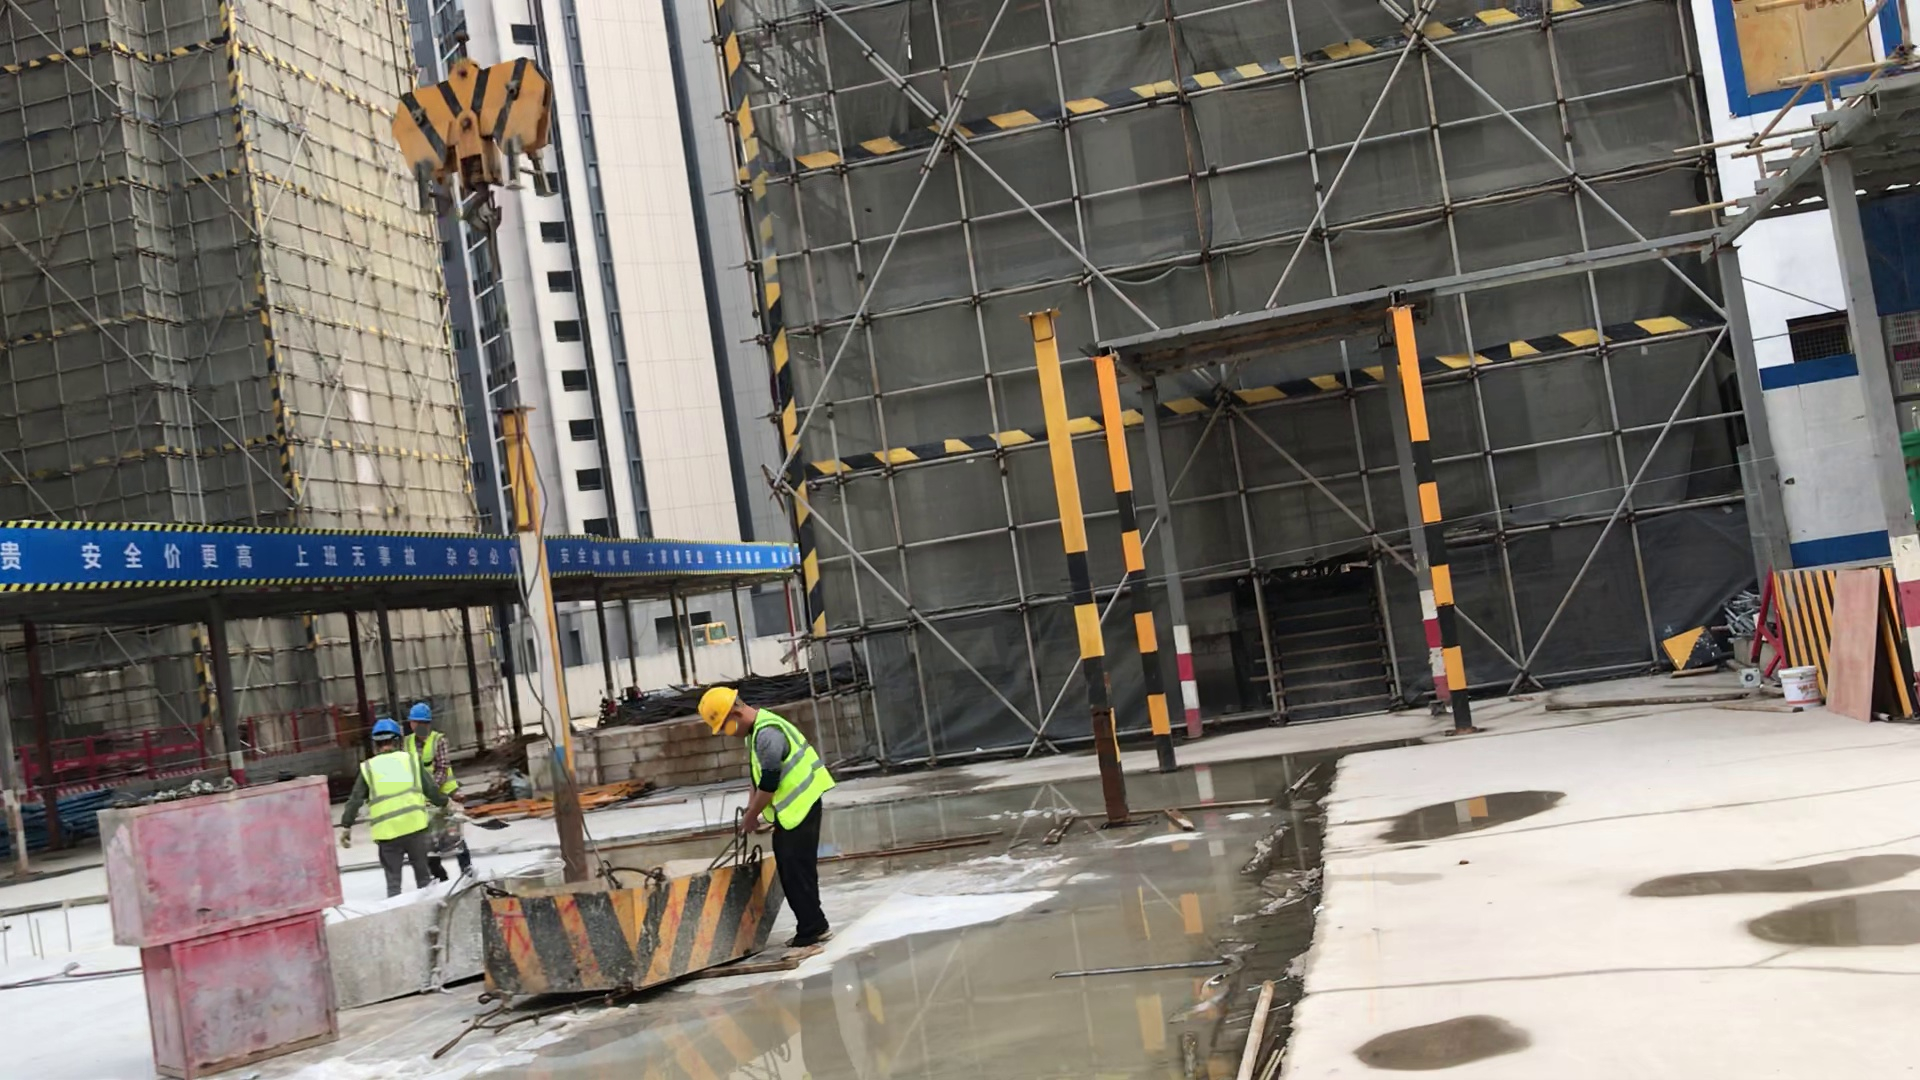fence: (7, 709, 304, 783)
helmet: (692, 687, 747, 728), (360, 706, 407, 737), (404, 695, 432, 716)
hook: (381, 31, 554, 217)
hopper: (471, 846, 806, 1000), (315, 869, 491, 1008)
person: (682, 672, 840, 947), (336, 717, 438, 916), (396, 690, 478, 898)
slogan: (1, 525, 807, 568)
vest: (745, 711, 838, 848), (352, 754, 434, 842)
